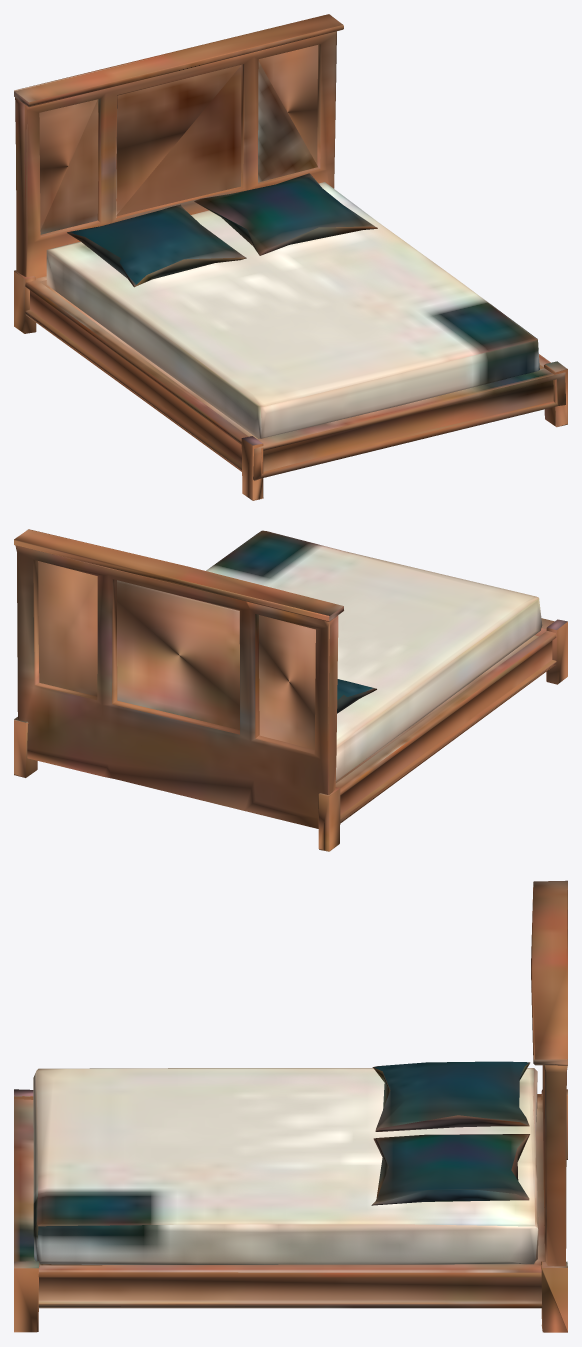
Rendered from double-bed.lod2.glb.
3 views of the same model, one above another, from view 1: azimuth 30°, elevation 25°; view 2: azimuth 150°, elevation 25°; view 3: azimuth 270°, elevation 25° (orthographic). The views are drawn at different scales.
Size of the model in its own units: 1.6 by 1.15 by 2.1.
1 material, 1 textured.
